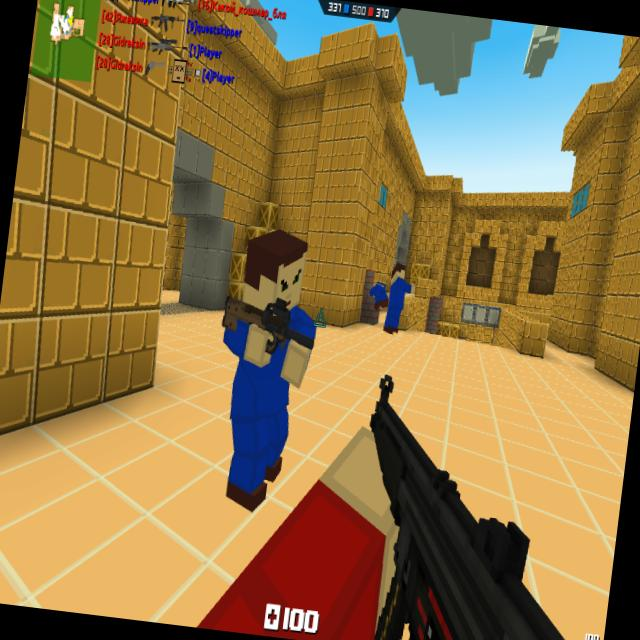enemy: (200, 220, 327, 517), (382, 260, 418, 337)
